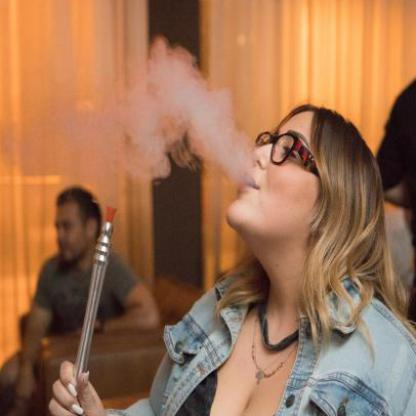person: (168, 102, 392, 415)
smoke: (122, 43, 250, 186)
